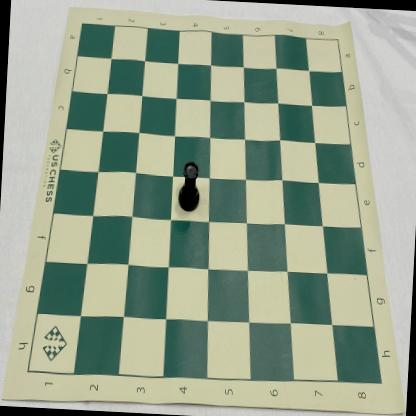black-rook: (176, 160, 202, 214)
